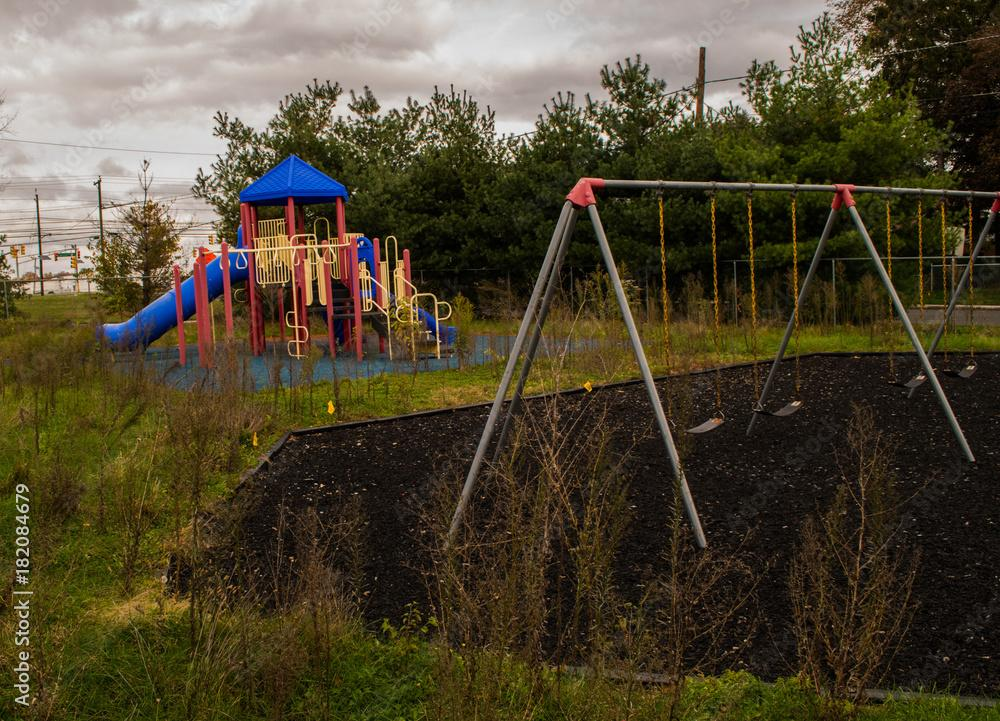overgrown grass: (186, 407, 912, 720), (99, 388, 256, 591), (7, 329, 111, 449), (573, 266, 633, 381), (657, 523, 691, 720), (673, 274, 710, 369), (107, 353, 149, 432), (32, 462, 81, 520), (290, 344, 322, 417)
